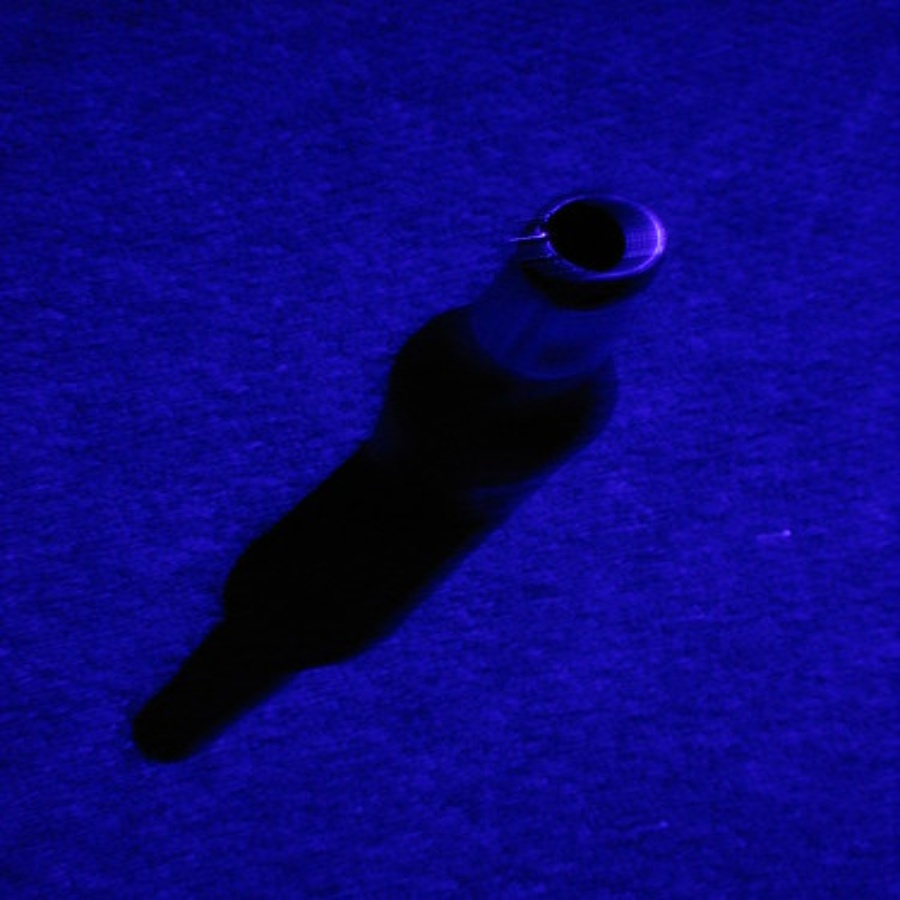beer: (382, 194, 660, 513)
